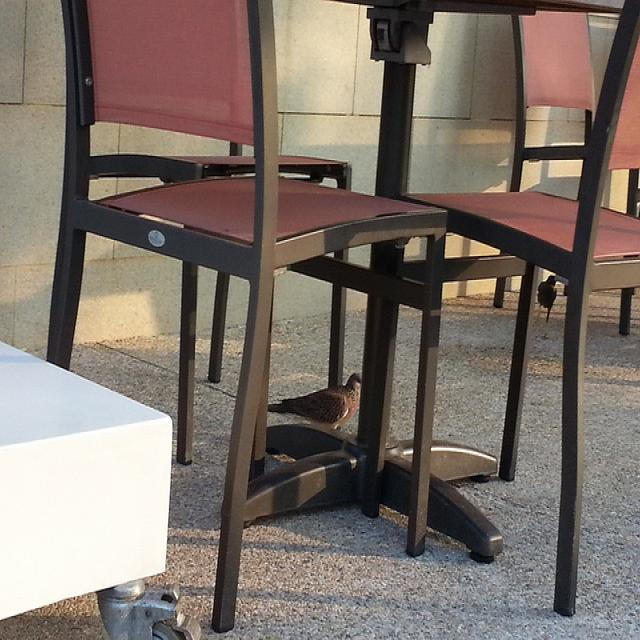chair: (44, 4, 449, 630), (375, 26, 640, 622), (209, 154, 350, 386), (510, 10, 598, 193)
dining table: (247, 0, 623, 562)
